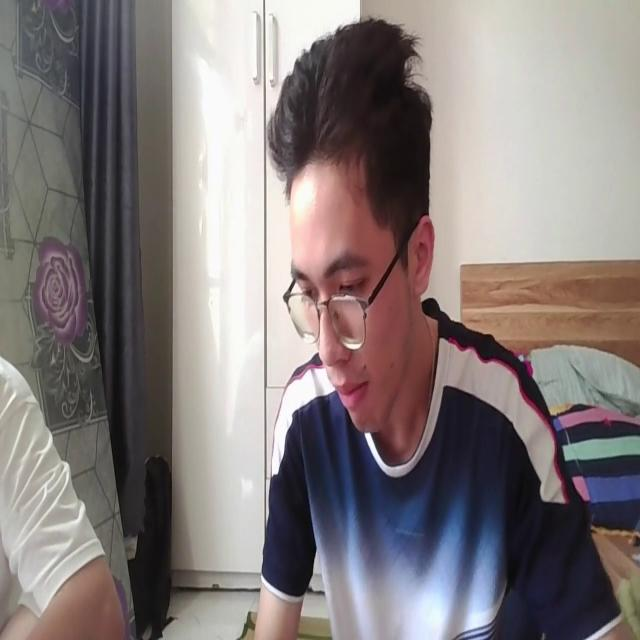student: (247, 15, 628, 640)
